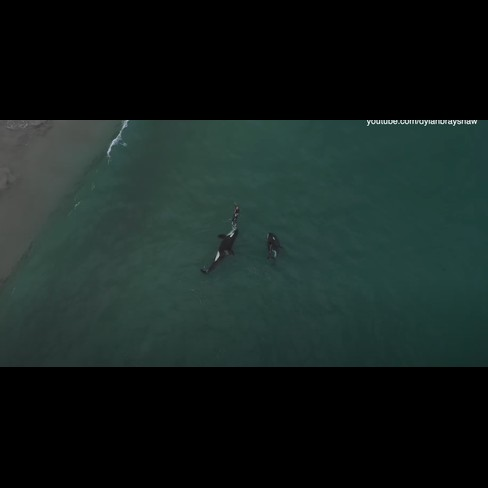orca: (193, 218, 242, 275), (262, 226, 284, 266)
